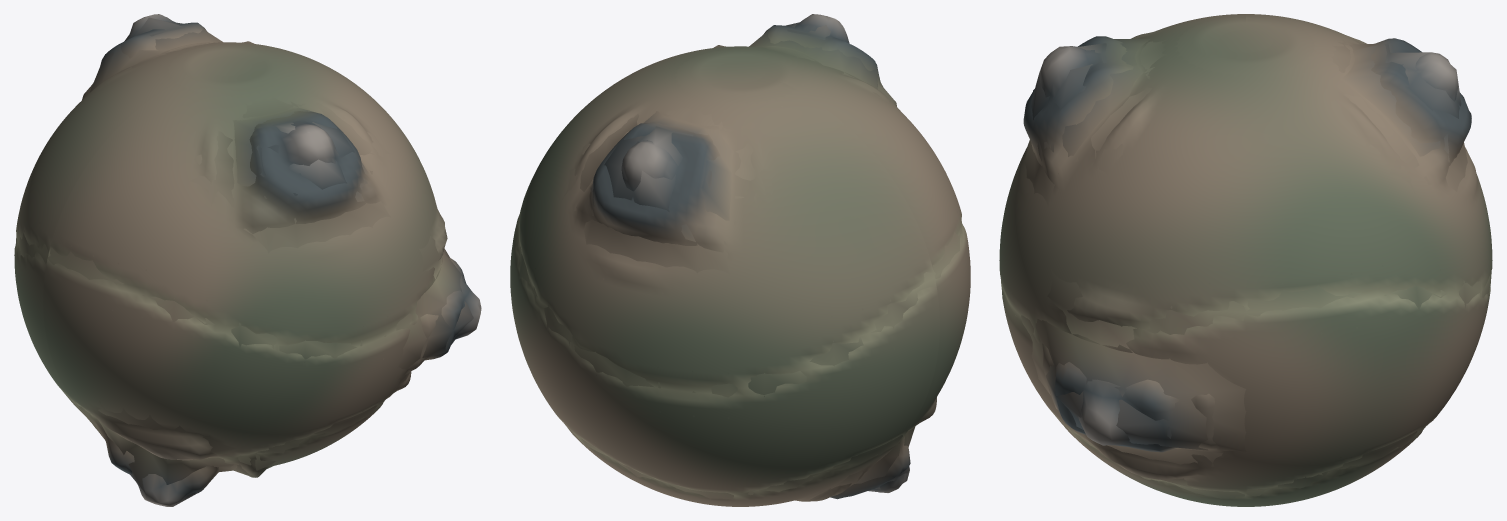
File: project-foundry.glb
3 views of the same model, side by side, from view 1: azimuth 30°, elevation 25°; view 2: azimuth 150°, elevation 25°; view 3: azimuth 270°, elevation 25° (orthographic). The views are drawn at different scales.
Visible parts, largest first — view 1: Terrain_Full, Terrain_Distant; view 2: Terrain_Full, Terrain_Distant; view 3: Terrain_Full, Terrain_Distant.
Boxes of the visible parts, box(x1,y1,x2,y2) form: Terrain_Full: box(14, 14, 481, 506); Terrain_Distant: box(14, 17, 473, 505); Terrain_Full: box(510, 14, 970, 506); Terrain_Distant: box(511, 16, 965, 505); Terrain_Full: box(999, 14, 1492, 506); Terrain_Distant: box(1001, 15, 1491, 498).
Size of the model in its own units: 294 by 291 by 288.
